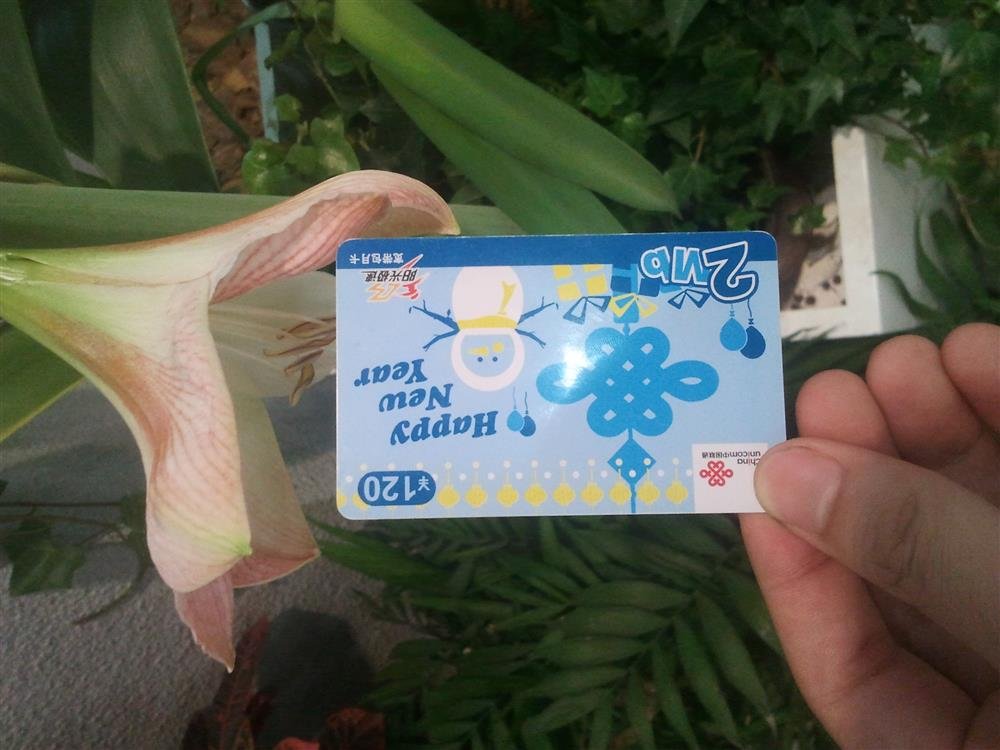china_unicom_card: (326, 222, 811, 538)
